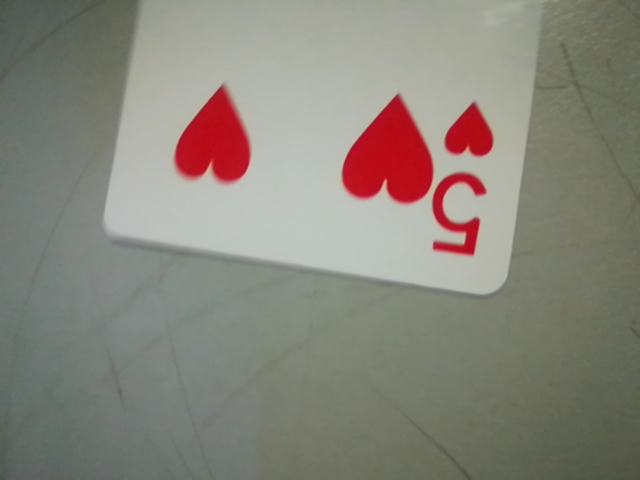hx 5: (423, 87, 505, 272)
